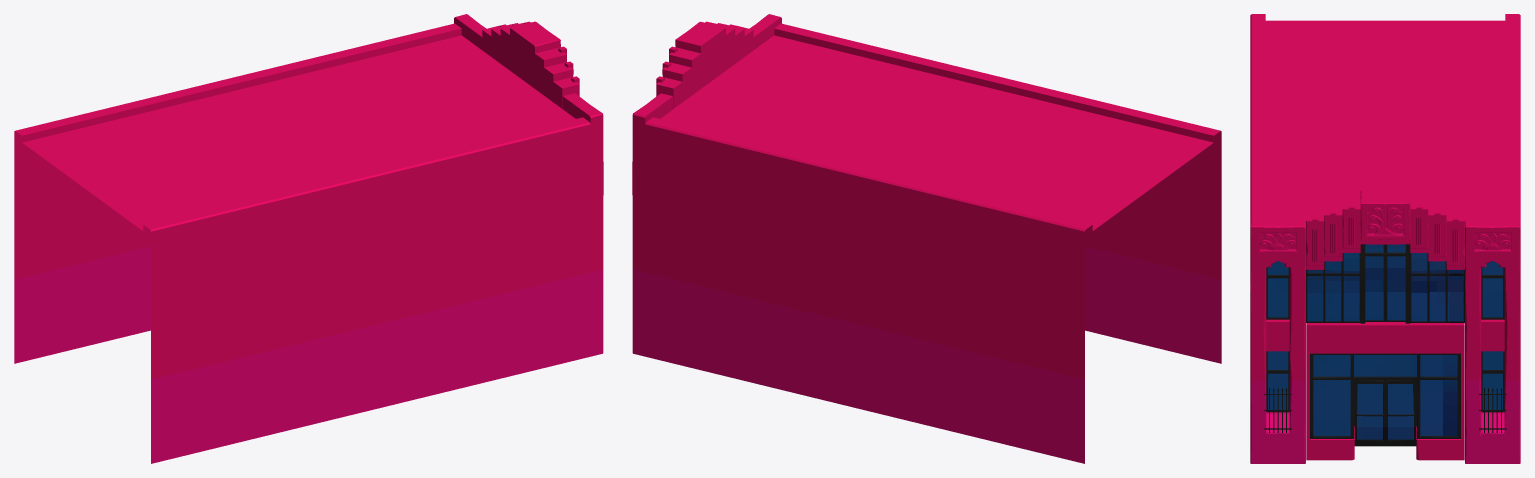
File: Building_Deco04.fbx
3 views of the same model, side by side, from view 1: azimuth 30°, elevation 25°; view 2: azimuth 150°, elevation 25°; view 3: azimuth 270°, elevation 25° (orthographic).
Parts seen in each view (by area): view 1: SM_City_Building_Deco_02.mo; view 2: SM_City_Building_Deco_02.mo; view 3: SM_City_Building_Deco_02.mo.
Part boxes in pixels (x1,y1,x2,y2): SM_City_Building_Deco_02.mo: (14, 14, 603, 463); SM_City_Building_Deco_02.mo: (632, 14, 1221, 463); SM_City_Building_Deco_02.mo: (1250, 14, 1520, 463).
Size of the model in its own units: 1629 by 901 by 828.
